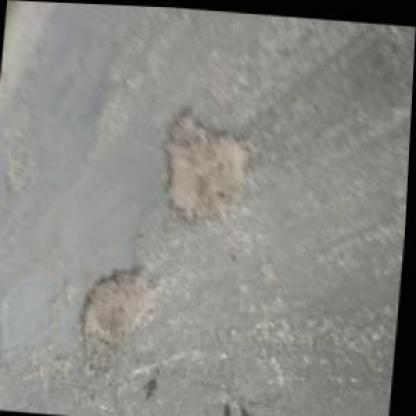pothole: (154, 97, 259, 230), (76, 256, 174, 364)
